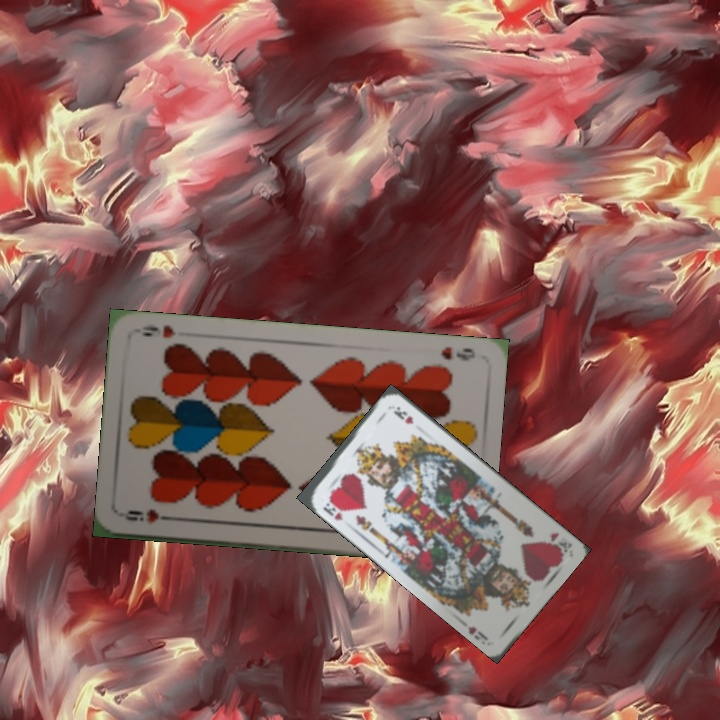H9: (119, 505, 178, 527), (437, 342, 478, 364)
HK: (545, 528, 574, 556), (318, 499, 345, 523)
